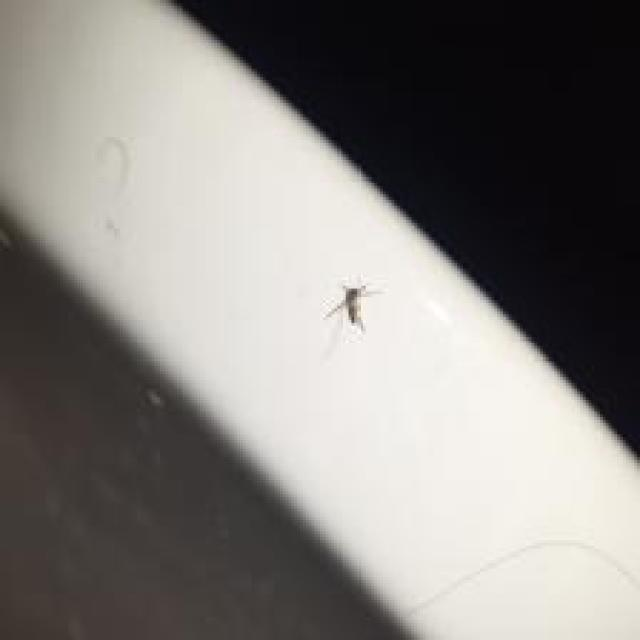Culex: (323, 278, 380, 333)
